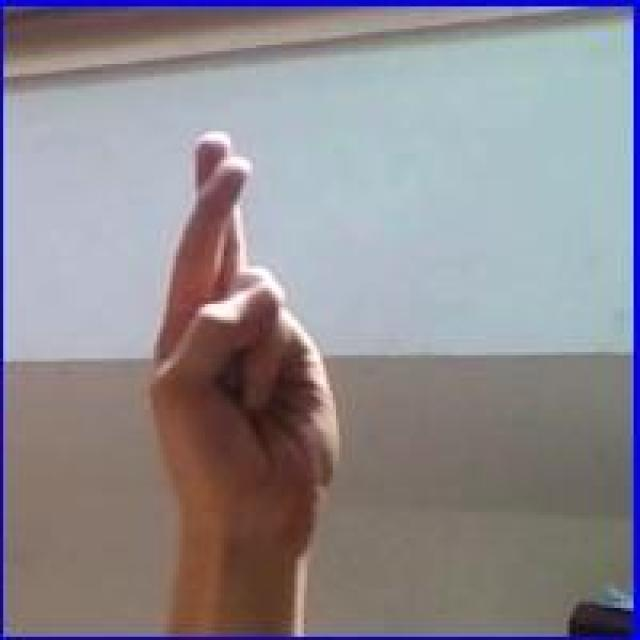R: (140, 125, 346, 589)
